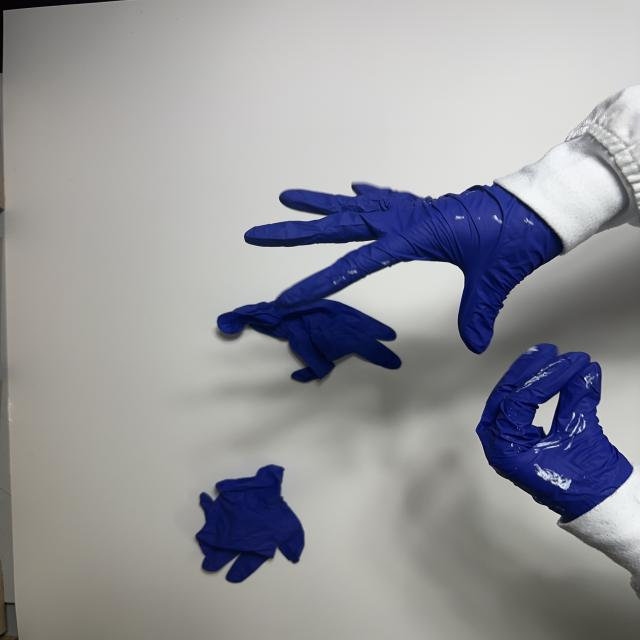gloves_contaminated: (245, 186, 561, 353), (477, 344, 631, 522)
